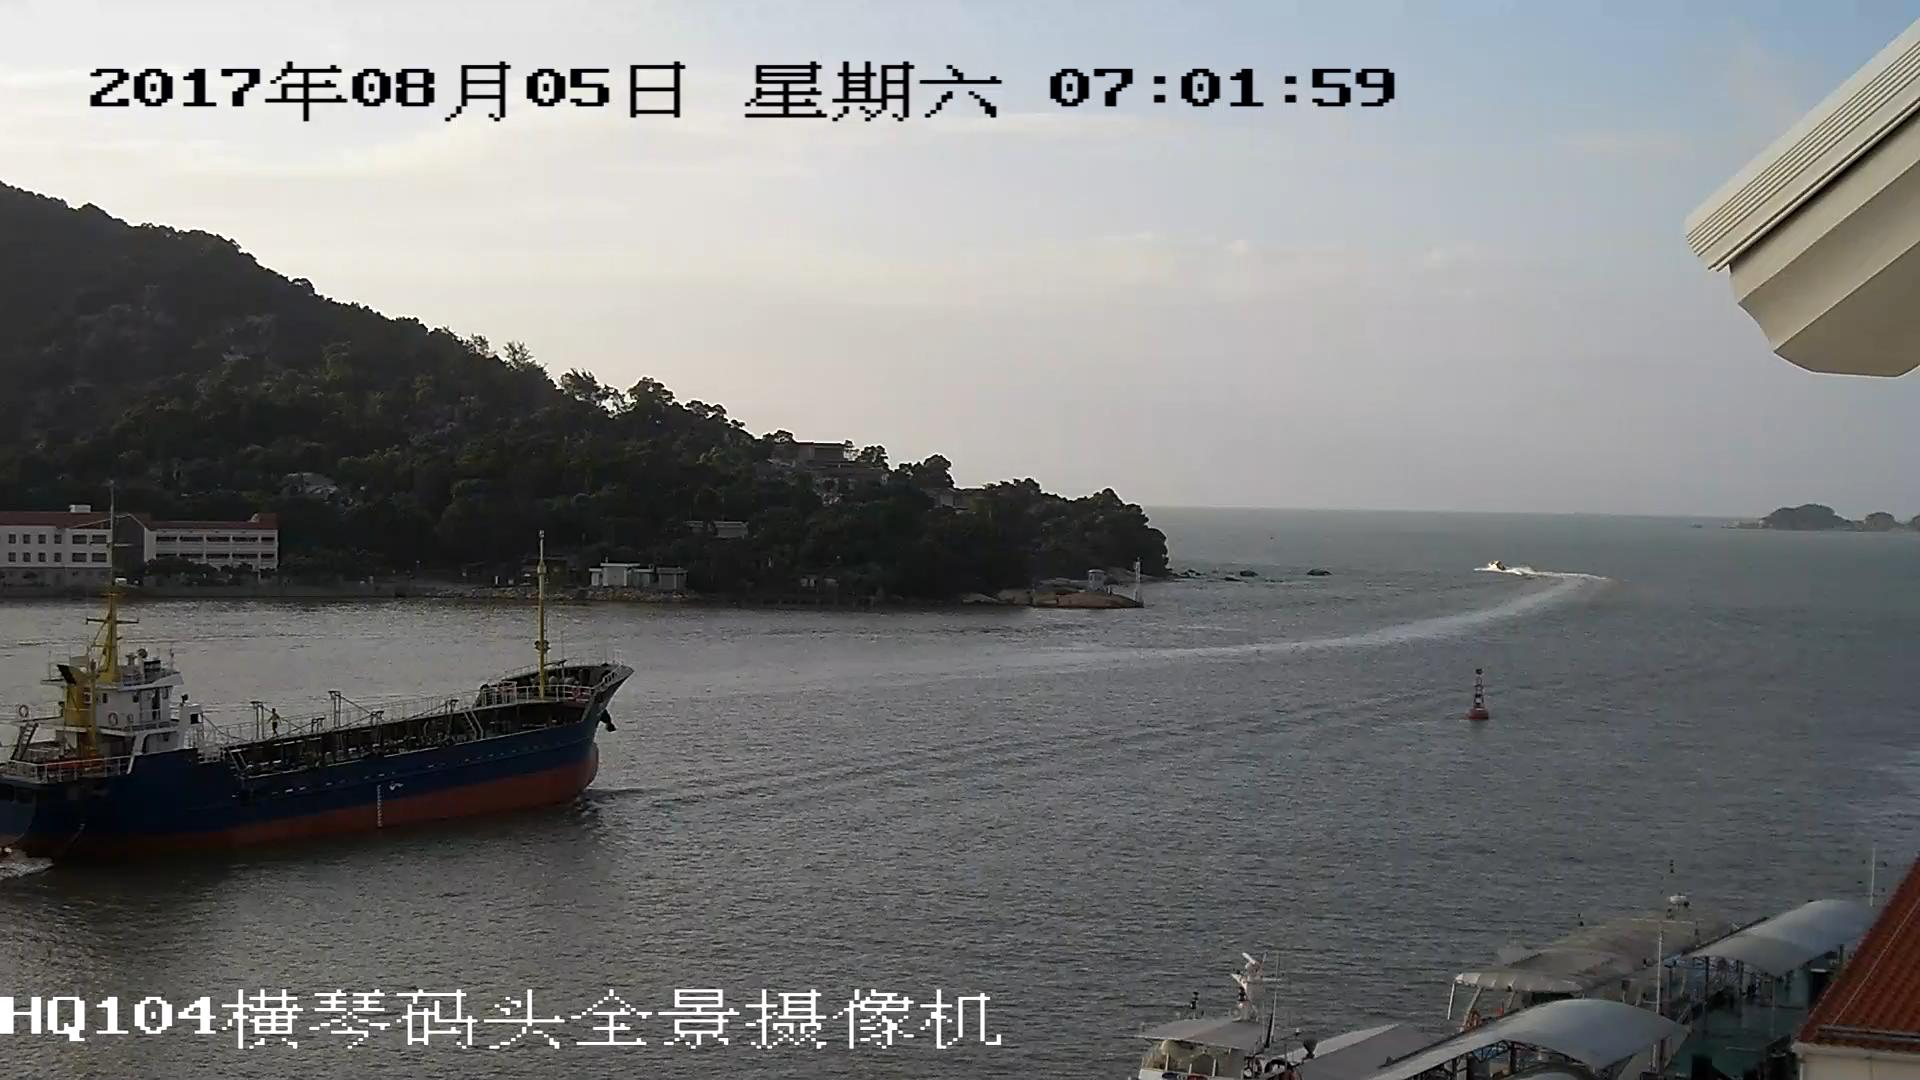general cargo ship: (1, 535, 645, 865)
